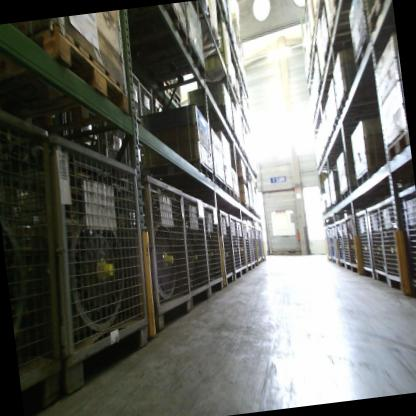pallet: (0, 14, 138, 132), (116, 2, 193, 57), (135, 38, 209, 95), (149, 155, 216, 192), (335, 84, 379, 116), (362, 0, 395, 39), (330, 105, 378, 131), (324, 4, 357, 39), (381, 120, 411, 158), (349, 33, 374, 71), (197, 114, 234, 137), (192, 174, 227, 198), (355, 164, 388, 188), (222, 80, 240, 106), (160, 74, 174, 99), (332, 0, 357, 12), (339, 185, 357, 201), (172, 91, 184, 108), (224, 185, 234, 199), (331, 200, 341, 209), (233, 192, 241, 203)
stillage: (6, 115, 162, 390), (0, 96, 84, 416), (89, 162, 198, 344), (175, 184, 213, 307), (197, 194, 227, 300), (376, 189, 407, 291), (394, 177, 416, 303), (365, 198, 390, 288), (353, 203, 377, 280), (215, 204, 235, 287), (133, 74, 158, 135), (224, 208, 243, 283), (122, 64, 144, 123), (234, 209, 248, 275), (344, 212, 359, 272), (240, 217, 253, 274), (339, 216, 352, 271), (245, 215, 256, 272), (334, 220, 346, 268), (147, 84, 164, 117), (247, 220, 258, 270), (258, 223, 268, 264), (331, 223, 340, 266), (323, 225, 333, 262), (253, 224, 262, 265), (328, 223, 337, 263)
